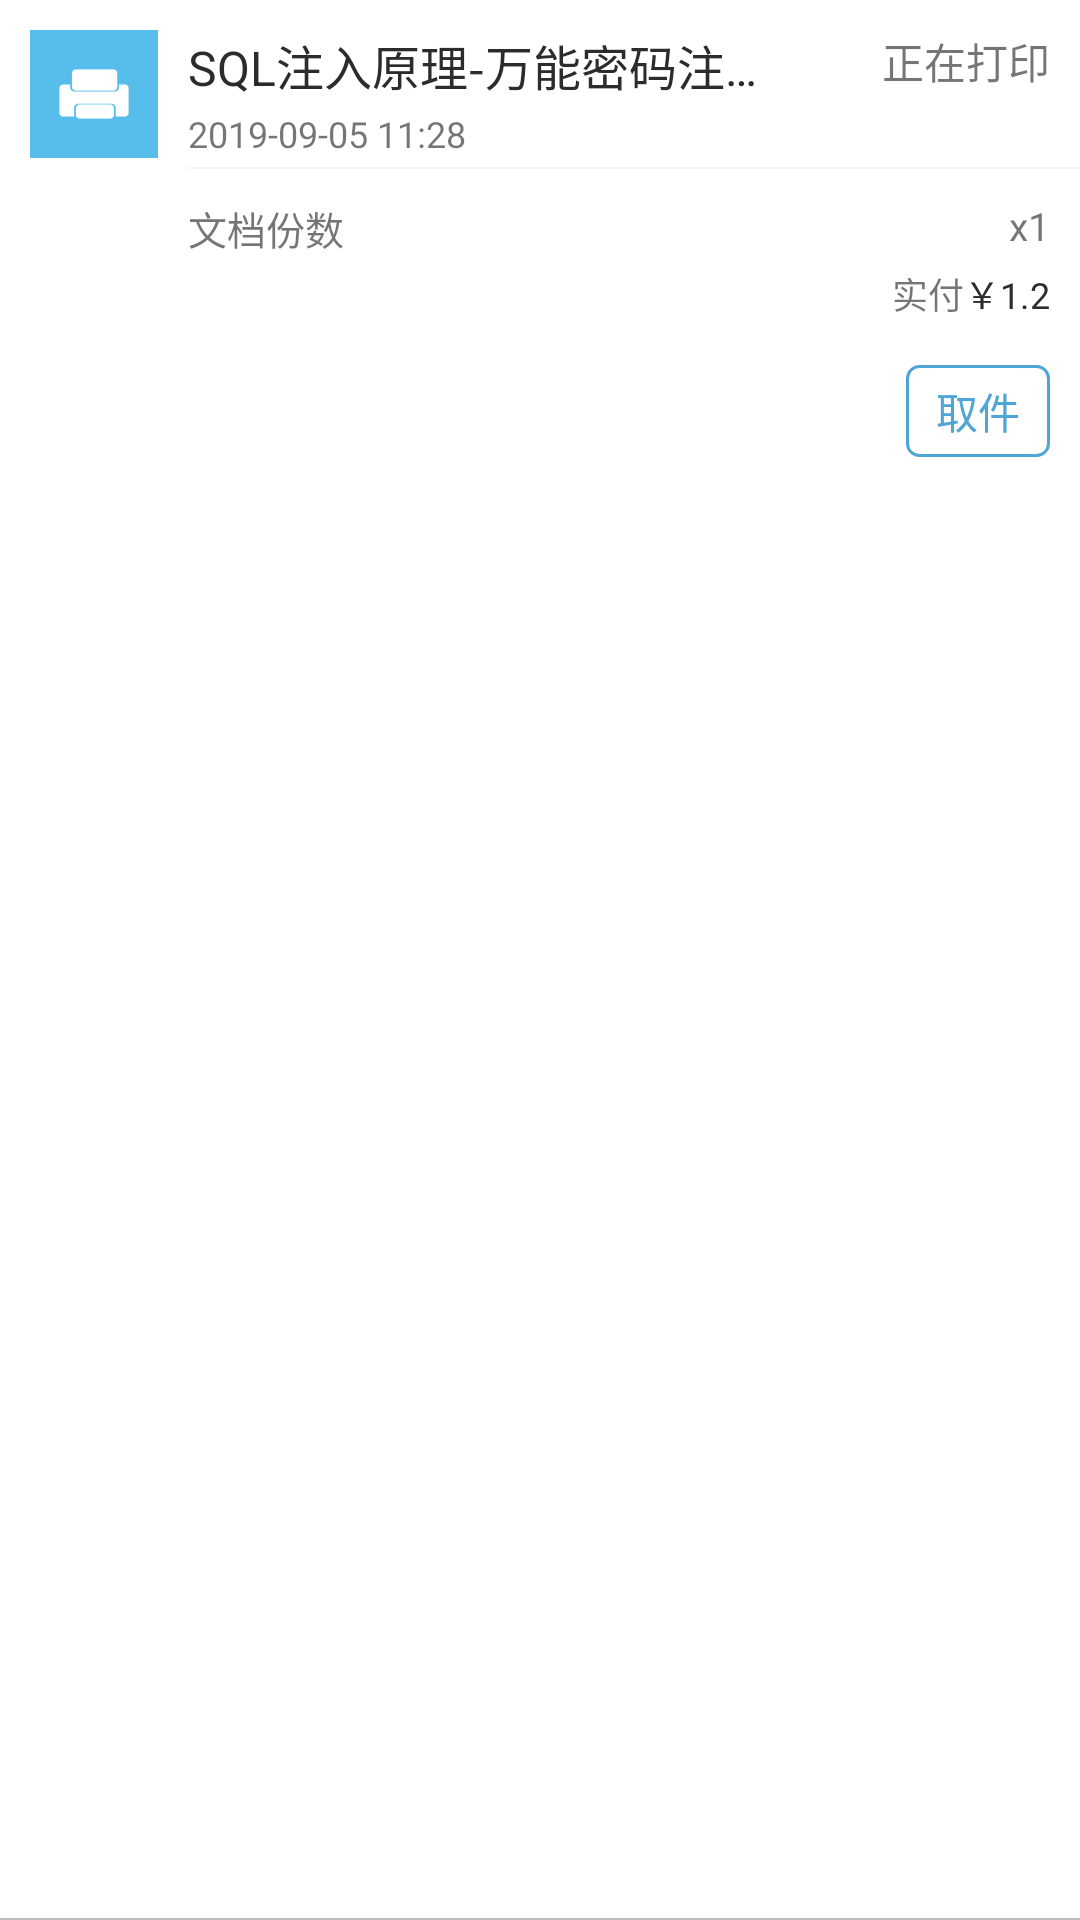

Icon click points for this 1080x1920 phone screenshot, format (x,y):
文档类型图片: (94,94)
